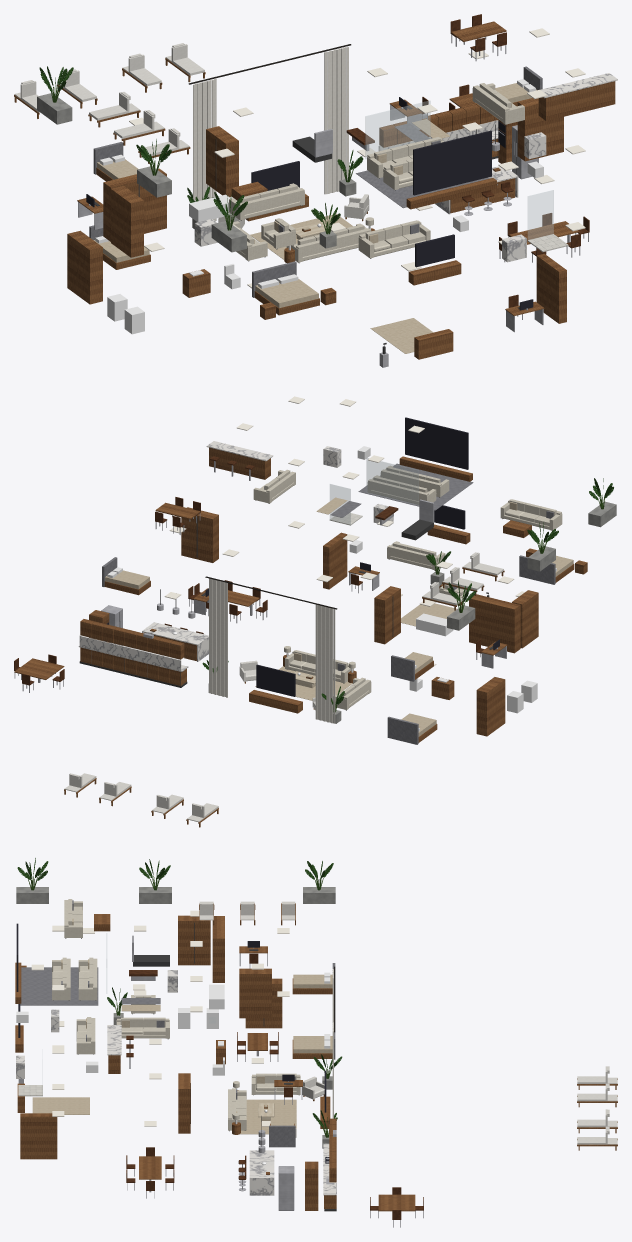
File: LuxuryVilla_Interior.fbx
3 views of the same model, one above another, from view 1: azimuth 30°, elevation 25°; view 2: azimuth 150°, elevation 25°; view 3: azimuth 270°, elevation 25° (orthographic). The views are drawn at different scales.
Visible parts, largest first — view 1: Curtains, TV_Media, Bar, Mirror_Gym, Bed_Master, LightFixtures, KitchenCabinets, Wardrobe_Guest, Wardrobe_Master2, Wardrobe_A, TV_Lounge, Bookshelf_Study (+48 smaller); view 2: KitchenCabinets, Curtains, TV_Media, Wardrobe_Master, Mirror_Gym, LightFixtures, Wardrobe_B, TVConsole, Bar, Wardrobe_Guest, Wardrobe_A, Sofa_TerraceW (+18 smaller); view 3: LightFixtures, Rug_Media, Bookshelf_Study, Wardrobe_A, Wardrobe_Master2, Island, Rug_Living, KitchenCabinets, Sofa_Sky, Bed_Guest, Rug_Foyer, Bed_A (+19 smaller).
Boxes of the visible parts, x1=… form: Curtains: x1=188, y1=44, x2=351, y2=221; TV_Media: x1=406, y1=130, x2=496, y2=209; Bar: x1=538, y1=73, x2=617, y2=120; Mirror_Gym: x1=365, y1=100, x2=430, y2=158; Bed_Master: x1=252, y1=261, x2=319, y2=315; LightFixtures: x1=129, y1=28, x2=585, y2=288; KitchenCabinets: x1=378, y1=104, x2=498, y2=159; Wardrobe_Guest: x1=67, y1=230, x2=102, y2=304; Wardrobe_Master2: x1=111, y1=186, x2=143, y2=257; Wardrobe_A: x1=206, y1=126, x2=238, y2=197; TV_Lounge: x1=408, y1=234, x2=461, y2=285; Bookshelf_Study: x1=536, y1=253, x2=566, y2=323; KitchenCabinets: x1=78, y1=619, x2=188, y2=687; Curtains: x1=205, y1=576, x2=337, y2=723; TV_Media: x1=399, y1=417, x2=472, y2=481; Wardrobe_Master: x1=469, y1=594, x2=520, y2=653; Mirror_Gym: x1=366, y1=458, x2=418, y2=504; LightFixtures: x1=157, y1=396, x2=526, y2=667; Wardrobe_B: x1=181, y1=507, x2=218, y2=562; TVConsole: x1=249, y1=664, x2=302, y2=713; Bar: x1=206, y1=441, x2=273, y2=479; Wardrobe_Guest: x1=476, y1=677, x2=505, y2=736; Wardrobe_A: x1=374, y1=586, x2=400, y2=644; Sofa_TerraceW: x1=500, y1=499, x2=562, y2=530; LightFixtures: x1=31, y1=910, x2=289, y2=1152; Rug_Media: x1=20, y1=967, x2=98, y2=1005; Bookshelf_Study: x1=20, y1=1113, x2=57, y2=1159; Wardrobe_A: x1=239, y1=968, x2=271, y2=1018; Wardrobe_Master2: x1=178, y1=915, x2=210, y2=965; Island: x1=249, y1=1150, x2=274, y2=1195; Rug_Living: x1=240, y1=1099, x2=296, y2=1134; KitchenCabinets: x1=323, y1=1118, x2=336, y2=1211; Sofa_Sky: x1=116, y1=1017, x2=169, y2=1039; Bed_Guest: x1=292, y1=1032, x2=335, y2=1059; Rug_Foyer: x1=32, y1=1097, x2=89, y2=1114; Bed_A: x1=292, y1=963, x2=335, y2=994.
Bounding box in the file's own units: 24.2 × 9.95 × 29.52.
20 materials, 15 textured.
